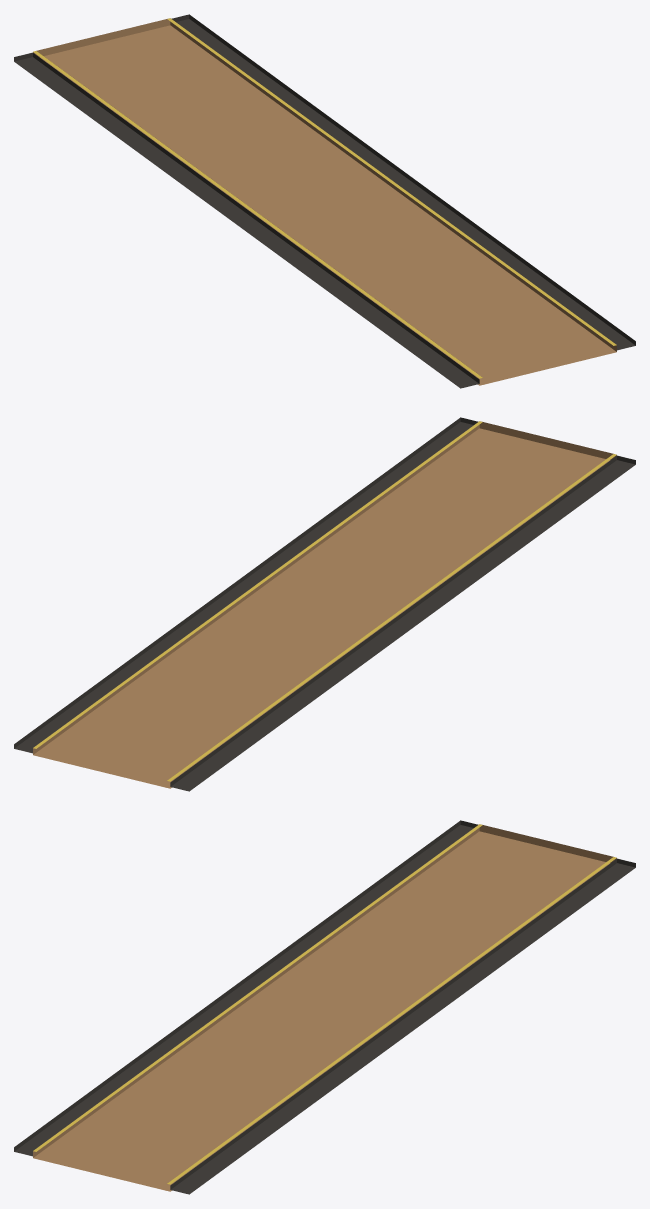
The model's file is bowling_lane_medium.glb.
The picture shows the model from 3 angles, top to bottom: view 1: azimuth 30°, elevation 25°; view 2: azimuth 150°, elevation 25°; view 3: azimuth 330°, elevation 25°; orthographic projection.
Visible parts, largest first — view 1: Lane; view 2: Lane; view 3: Lane.
Part boxes in pixels (x1,y1,x2,y2): Lane: (14, 14, 635, 388); Lane: (14, 417, 635, 791); Lane: (14, 820, 635, 1194).
Size of the model in its own units: 2.04 by 0.08 by 9.
